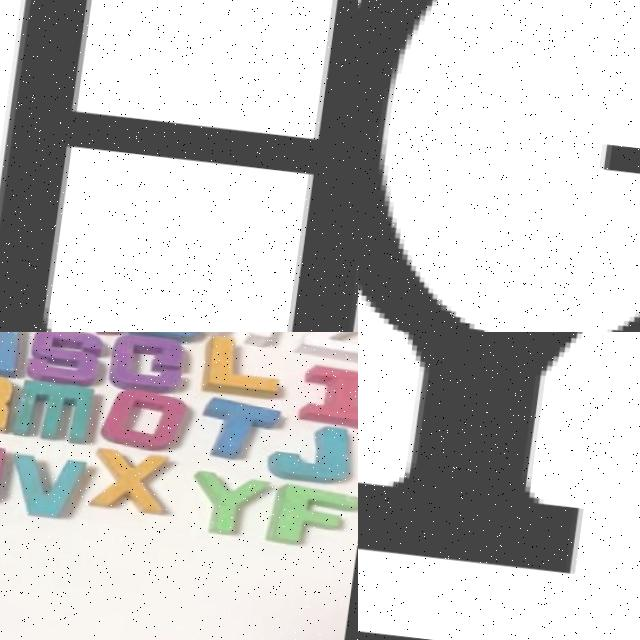F: (266, 483, 358, 549)
G: (358, 0, 640, 332), (108, 333, 196, 403)
I: (299, 361, 358, 426)
J: (259, 420, 352, 486)
L: (200, 337, 287, 400)
M: (7, 378, 100, 444)
N: (0, 332, 31, 379)
O: (101, 386, 189, 452)
R: (0, 364, 21, 435)
S: (25, 332, 118, 394)
T: (202, 396, 281, 471)
V: (5, 452, 87, 522)
X: (88, 449, 173, 514)
Y: (358, 332, 640, 591), (188, 471, 270, 541)
Z: (295, 332, 358, 364)
